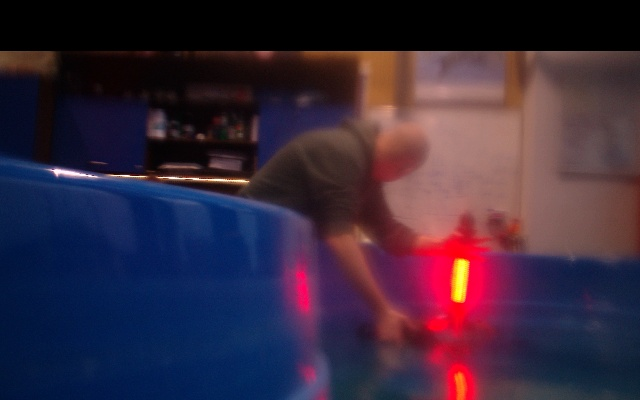red: (452, 257, 470, 311)
